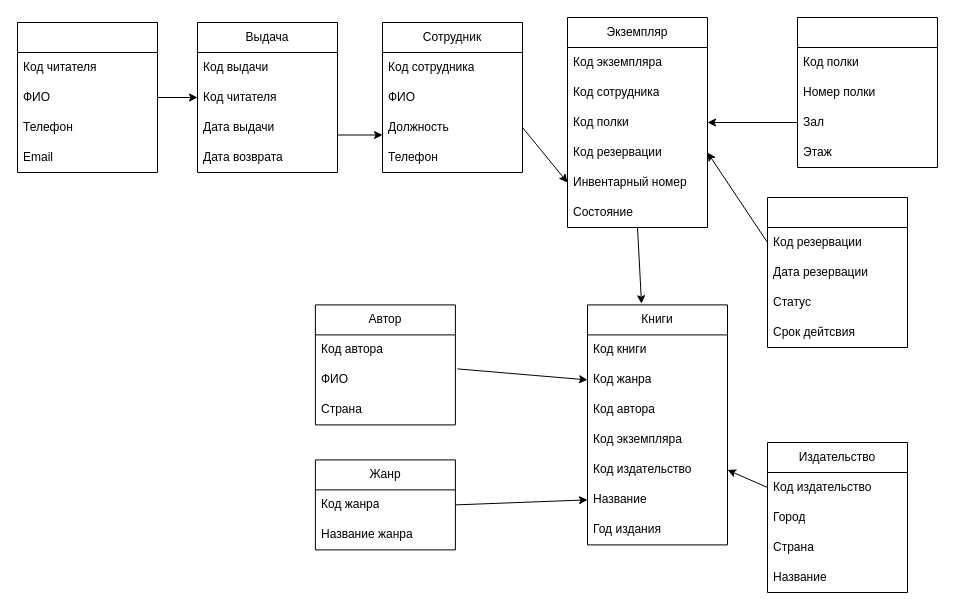
Image size: 955x610. Some labels were removed from this diagram. Here are the shapes that lost their labels. From the top down, the box of each, then its label:
(16, 22, 158, 172): Читатель
(796, 16, 938, 168): Полка
(766, 196, 908, 348): Резервация
